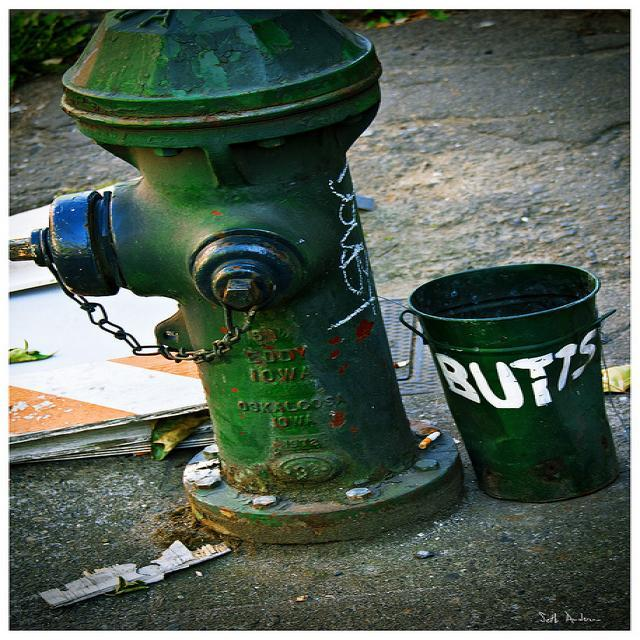fire_hydrant: (2, 8, 470, 546)
